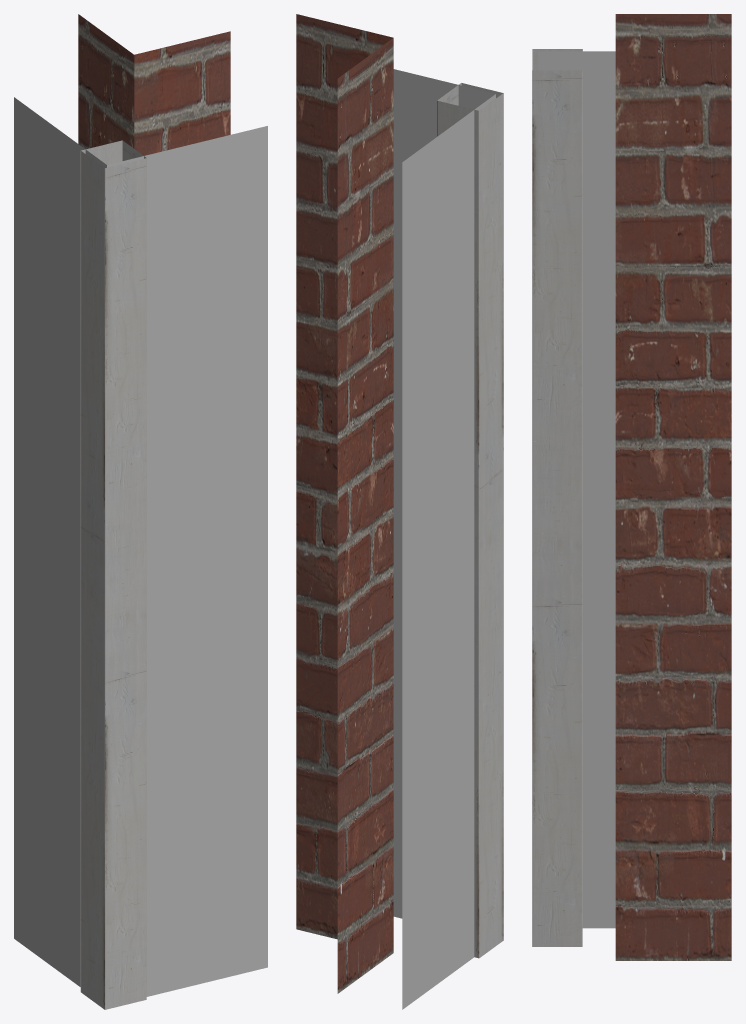
Rendered from In_WallUp_Corner_Out.FBX.
3 renders of one model, left to right at view 1: azimuth 30°, elevation 25°; view 2: azimuth 150°, elevation 25°; view 3: azimuth 270°, elevation 25°, orthographic. The views are drawn at different scales.
Visible parts, largest first — view 1: WallUp_Corner_Out; view 2: WallUp_Corner_Out; view 3: WallUp_Corner_Out.
Boxes of the visible parts, box(x1,y1,x2,y2) form: WallUp_Corner_Out: box(14, 14, 267, 1009); WallUp_Corner_Out: box(296, 14, 503, 1009); WallUp_Corner_Out: box(532, 14, 731, 960).
Bounding box in the file's own units: 51.5 × 270 × 51.5.
